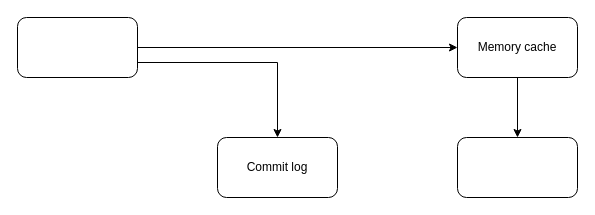
This 595x215 diagram has some shape labels left out. The centre of each missing label's shape, as x and y in pixels:
Client: point (77, 47)
SSTable: point (517, 167)
